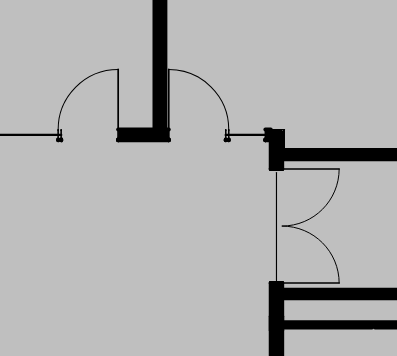door: (56, 60, 122, 154), (166, 64, 233, 149)
double door: (262, 163, 360, 292)
